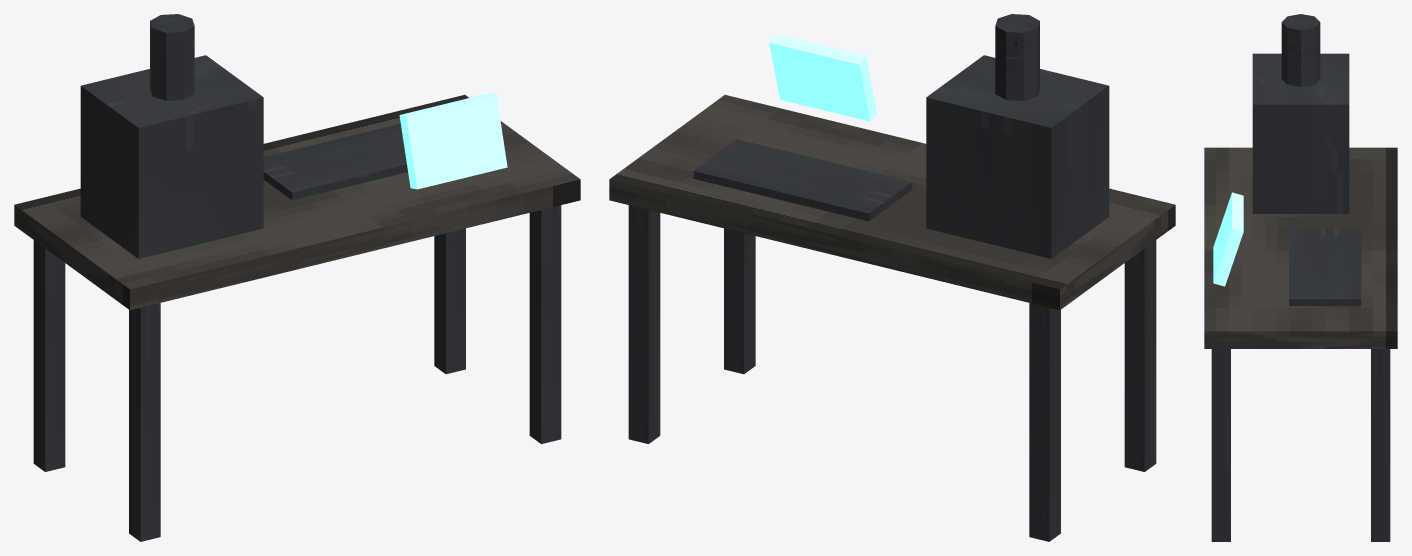
The model's file is weapon_lab.glb.
The picture shows the model from 3 angles, left to right: view 1: azimuth 30°, elevation 25°; view 2: azimuth 150°, elevation 25°; view 3: azimuth 270°, elevation 25°; orthographic projection. The views are drawn at different scales.
Parts seen in each view (by area): view 1: WeaponLab; view 2: WeaponLab; view 3: WeaponLab.
Boxes of the visible parts, x1,y1,x2,y2 form: WeaponLab: [14, 14, 580, 541]; WeaponLab: [609, 14, 1175, 541]; WeaponLab: [1204, 14, 1397, 541].
Bounding box in the file's own units: 1.8 × 1.75 × 0.8.
3 materials, 2 textured.
